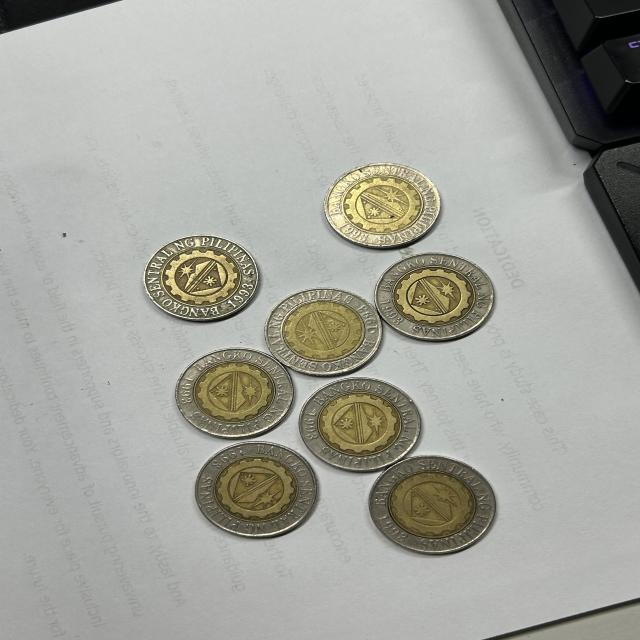10_Old_Back: (373, 462, 489, 543), (270, 292, 382, 374), (202, 446, 308, 532), (378, 258, 493, 336), (330, 164, 445, 240), (180, 354, 286, 436), (301, 387, 416, 462), (150, 238, 256, 318)
